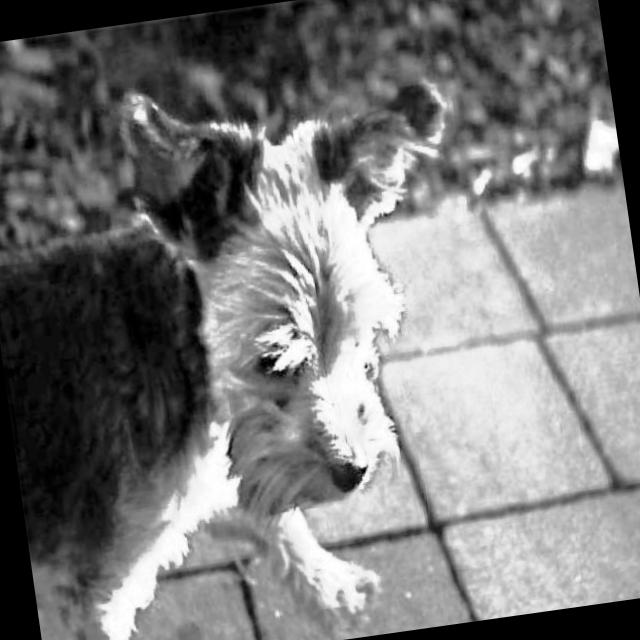Dog: (0, 60, 514, 640)
